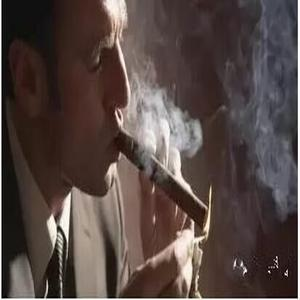cigarette: (115, 131, 213, 230)
